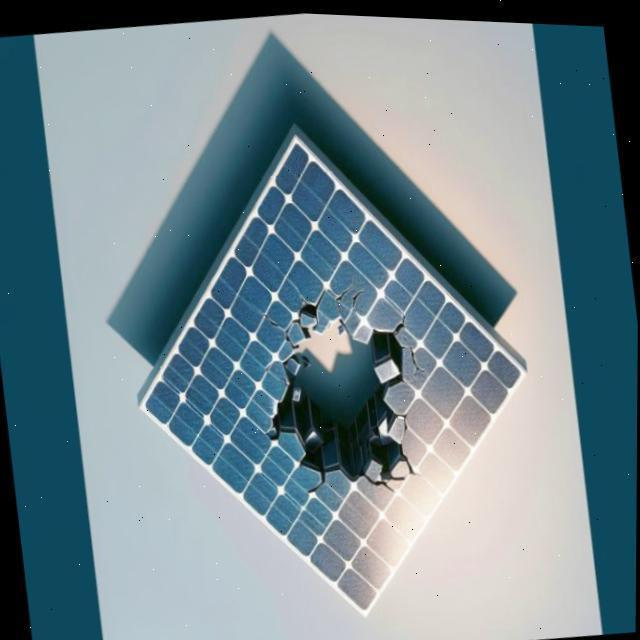Anomaly Solar Panel: (92, 137, 572, 614)
Structural Damage: (262, 299, 431, 491), (390, 450, 428, 489), (330, 277, 362, 315), (403, 338, 431, 380), (255, 300, 282, 329), (308, 467, 333, 496), (364, 471, 398, 490), (396, 406, 417, 435), (393, 307, 413, 334), (314, 282, 331, 307), (351, 285, 364, 307), (266, 360, 276, 372), (301, 289, 308, 300)
